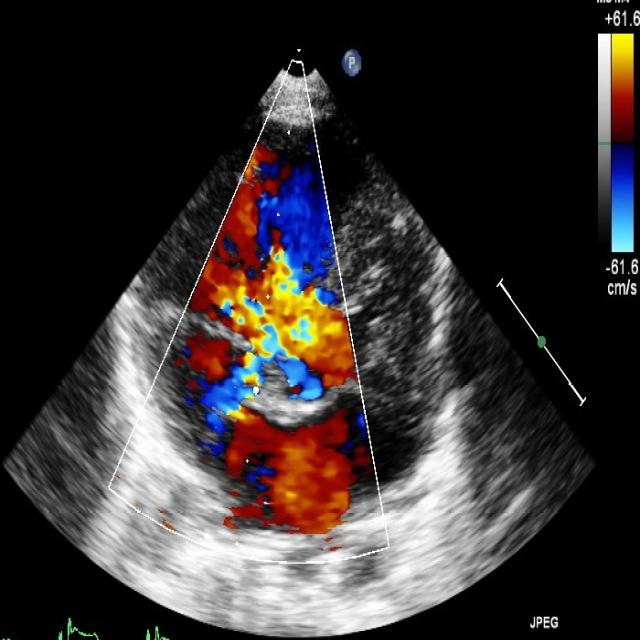VSDType2: (222, 277, 359, 400)
